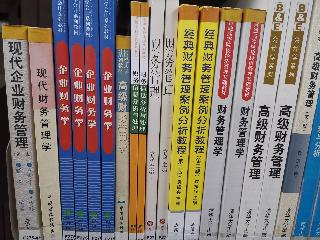book-spine: (249, 0, 315, 240), (232, 0, 291, 240), (212, 8, 267, 240), (195, 5, 244, 240), (273, 0, 320, 240), (179, 5, 219, 240), (2, 22, 43, 239), (164, 5, 201, 238), (29, 26, 63, 240), (151, 1, 181, 240), (51, 1, 76, 240), (141, 1, 166, 238), (67, 0, 90, 239), (98, 1, 116, 239), (84, 2, 101, 240), (115, 36, 131, 239), (127, 1, 140, 239), (137, 3, 149, 240)
